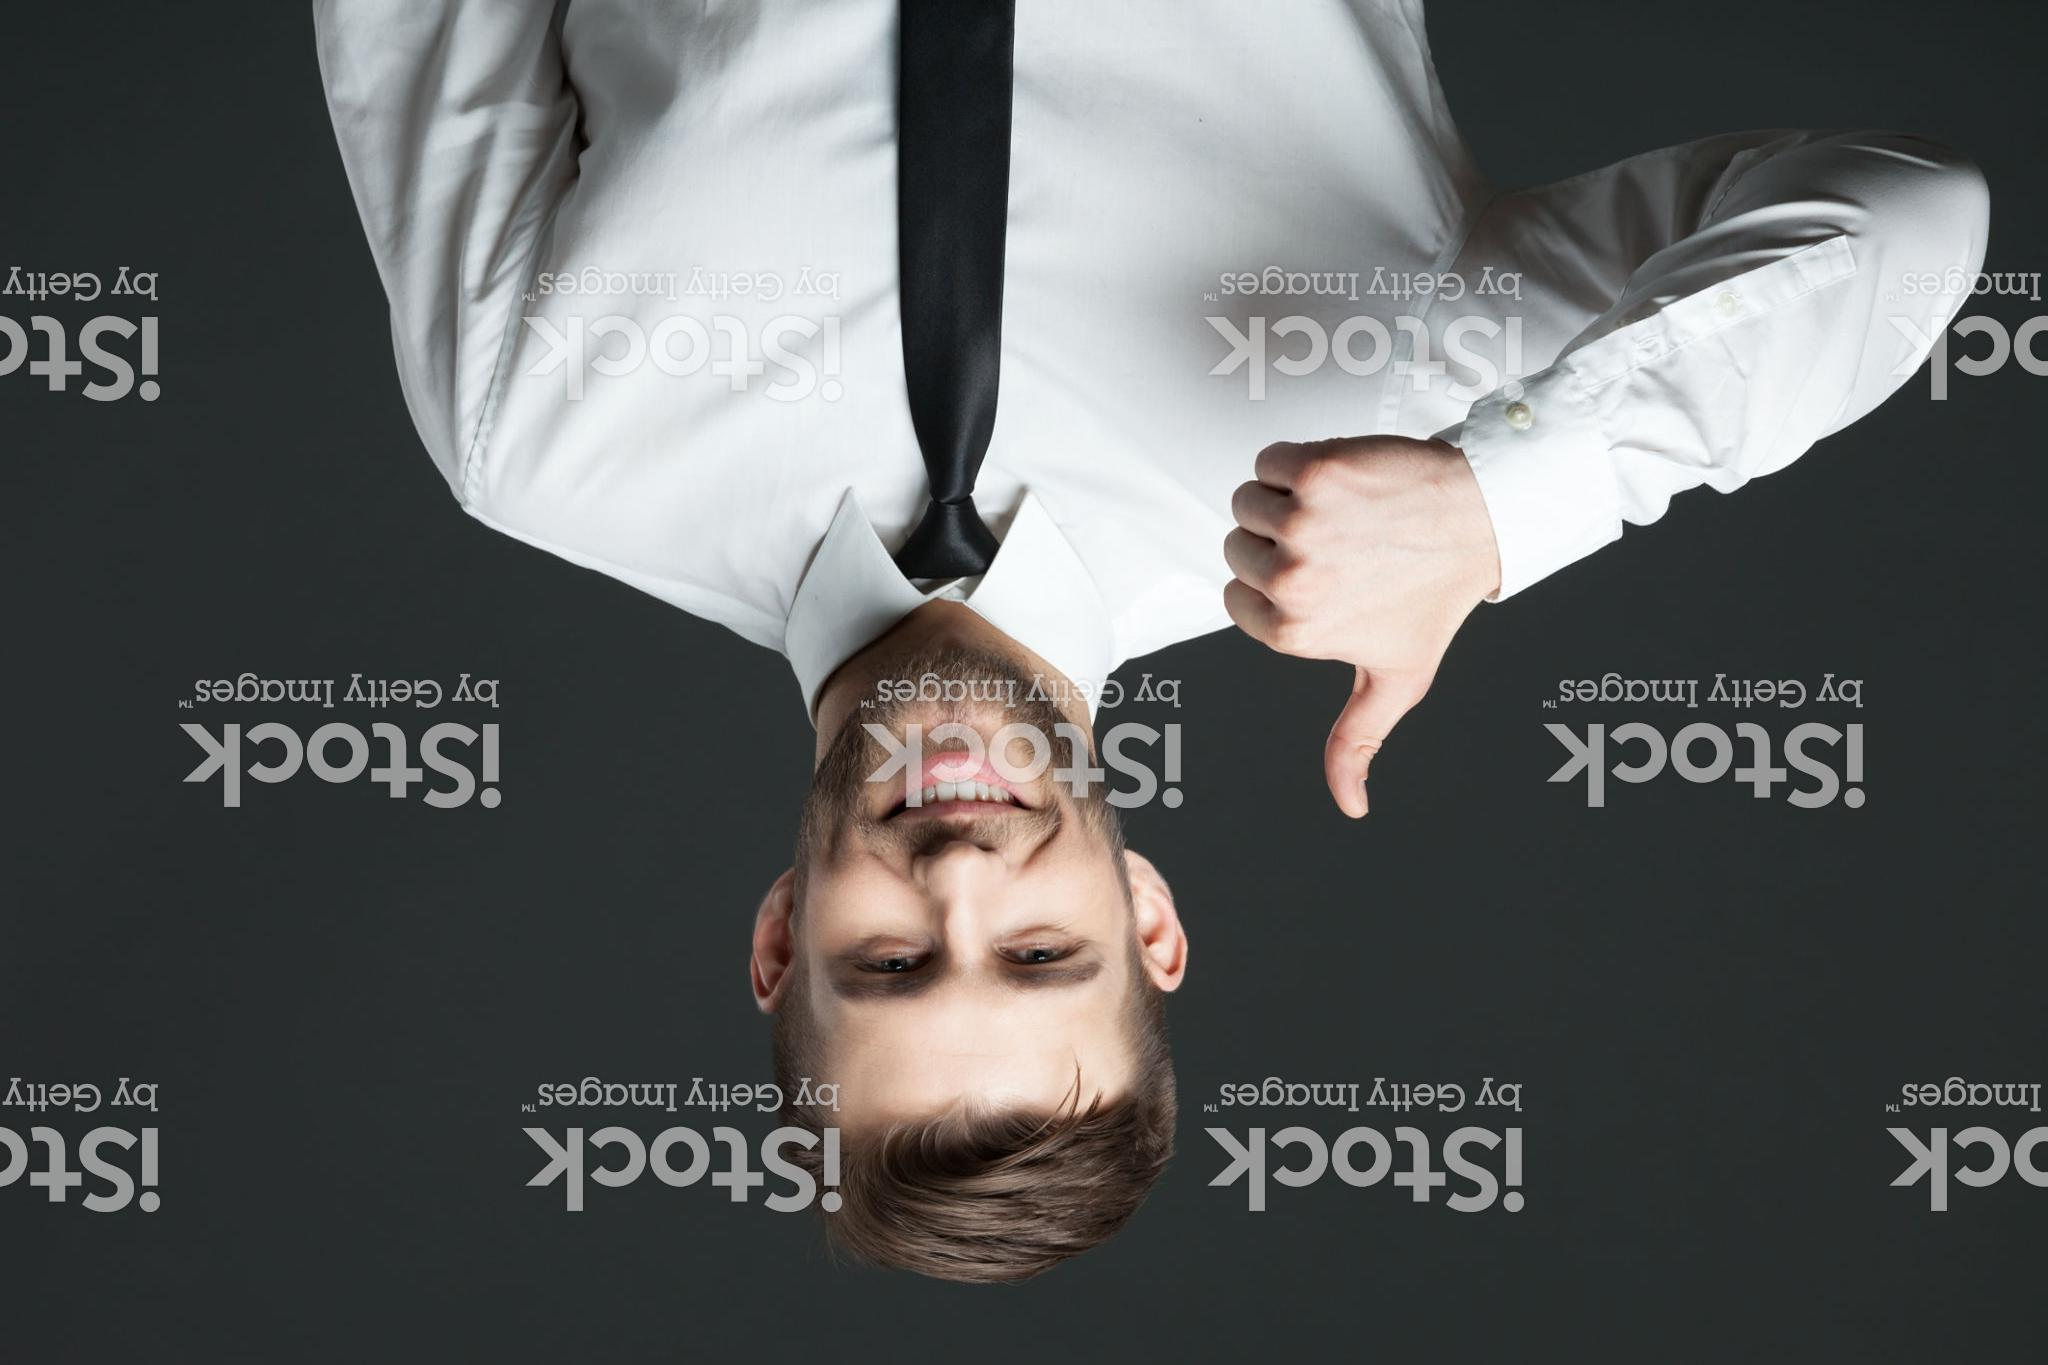thumbsdown: (1220, 433, 1466, 824)
